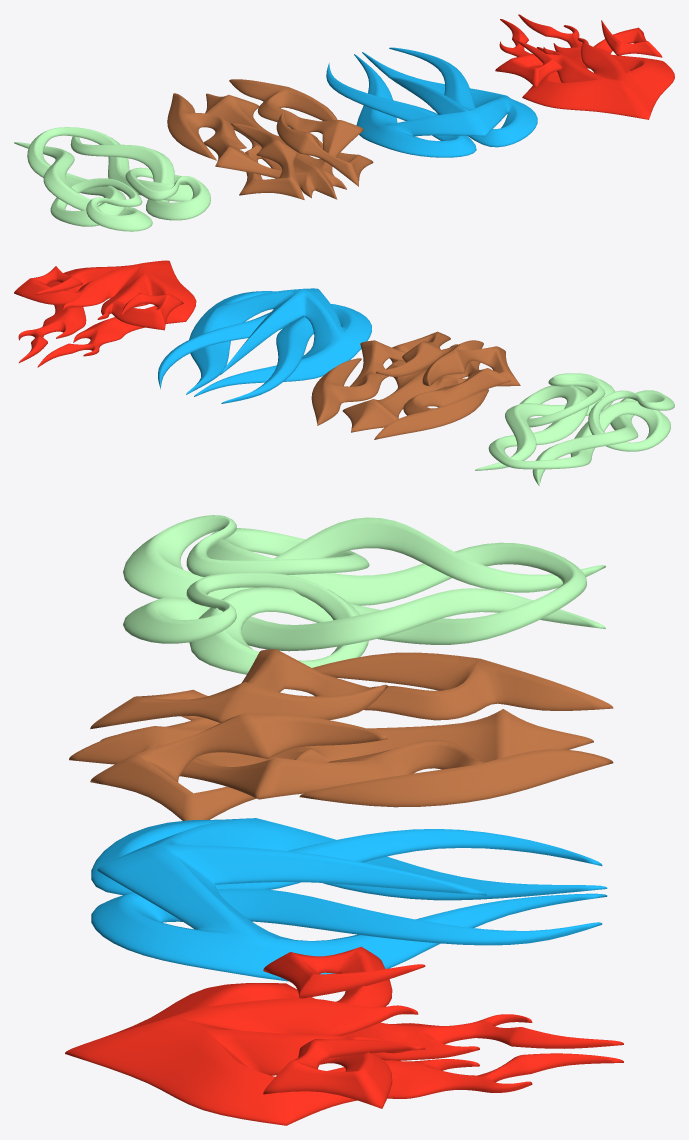
Rendered from Cards_01.fbx.
3 renders of one model, top to bottom at view 1: azimuth 30°, elevation 25°; view 2: azimuth 150°, elevation 25°; view 3: azimuth 270°, elevation 25°, orthographic. The views are drawn at different scales.
Visible parts, largest first — view 1: polySurface5, polySurface3, polySurface8, polySurface2; view 2: polySurface5, polySurface3, polySurface8, polySurface2; view 3: polySurface5, polySurface3, polySurface8, polySurface2.
Boxes of the visible parts, x1,y1,x2,y2 form: polySurface5: [167, 79, 373, 199]; polySurface3: [326, 47, 537, 157]; polySurface8: [14, 127, 210, 231]; polySurface2: [495, 14, 674, 119]; polySurface5: [311, 331, 520, 439]; polySurface3: [158, 288, 371, 403]; polySurface8: [475, 373, 674, 485]; polySurface2: [14, 260, 196, 367]; polySurface5: [69, 649, 613, 820]; polySurface3: [91, 818, 607, 981]; polySurface8: [123, 515, 605, 674]; polySurface2: [65, 946, 623, 1125].
Bounding box in the file's own units: 31.58 × 1.9 × 12.47.
